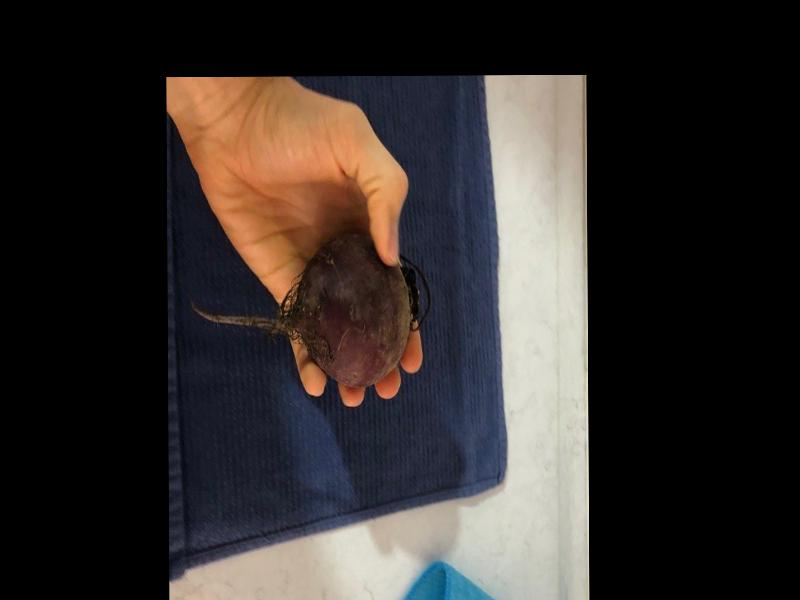Beet: (189, 233, 430, 388)
